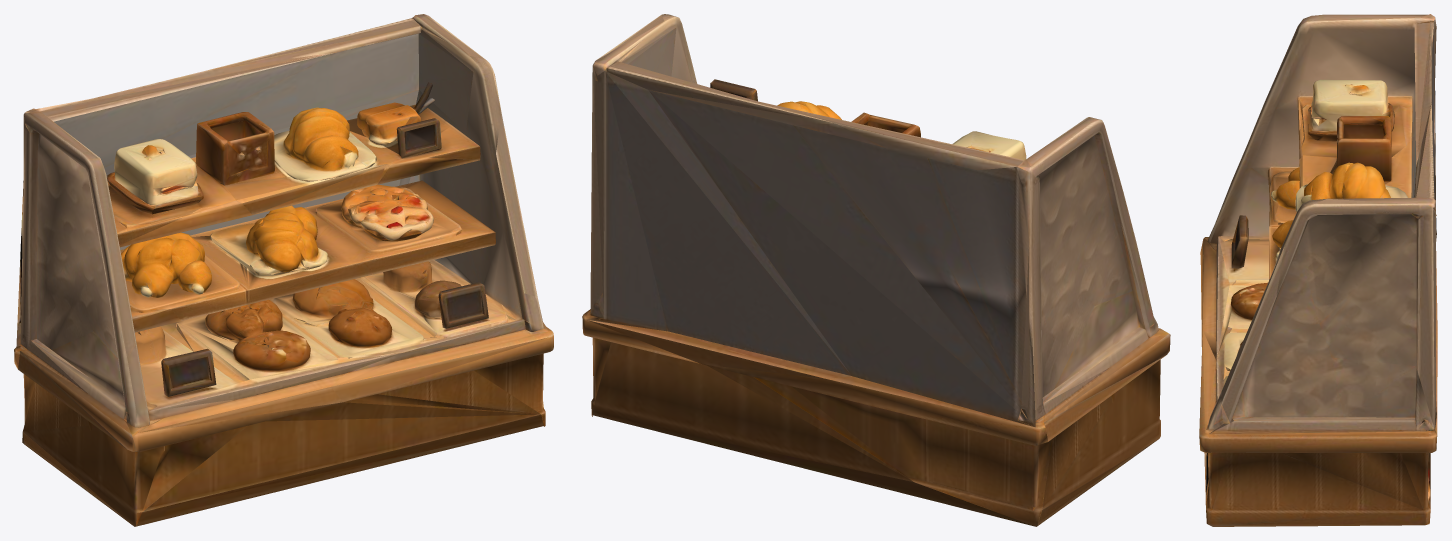
The model's file is pastry_case.gltf.
3 renders of one model, left to right at view 1: azimuth 30°, elevation 25°; view 2: azimuth 150°, elevation 25°; view 3: azimuth 270°, elevation 25°, orthographic. The views are drawn at different scales.
Visible parts, largest first — view 1: pastry_case; view 2: pastry_case; view 3: pastry_case.
Boxes of the visible parts, x1=… form: pastry_case: x1=14, y1=14, x2=553, y2=526; pastry_case: x1=582, y1=14, x2=1170, y2=526; pastry_case: x1=1199, y1=14, x2=1437, y2=526.
Size of the model in its own units: 2 by 1.49 by 1.
Materials: 1 (1 with a texture image).
